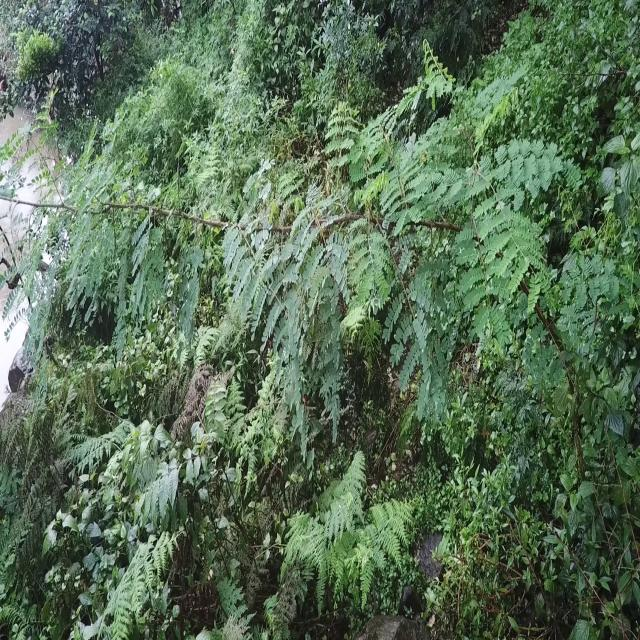Mysore-Thorn-Weed: (0, 61, 623, 438)
